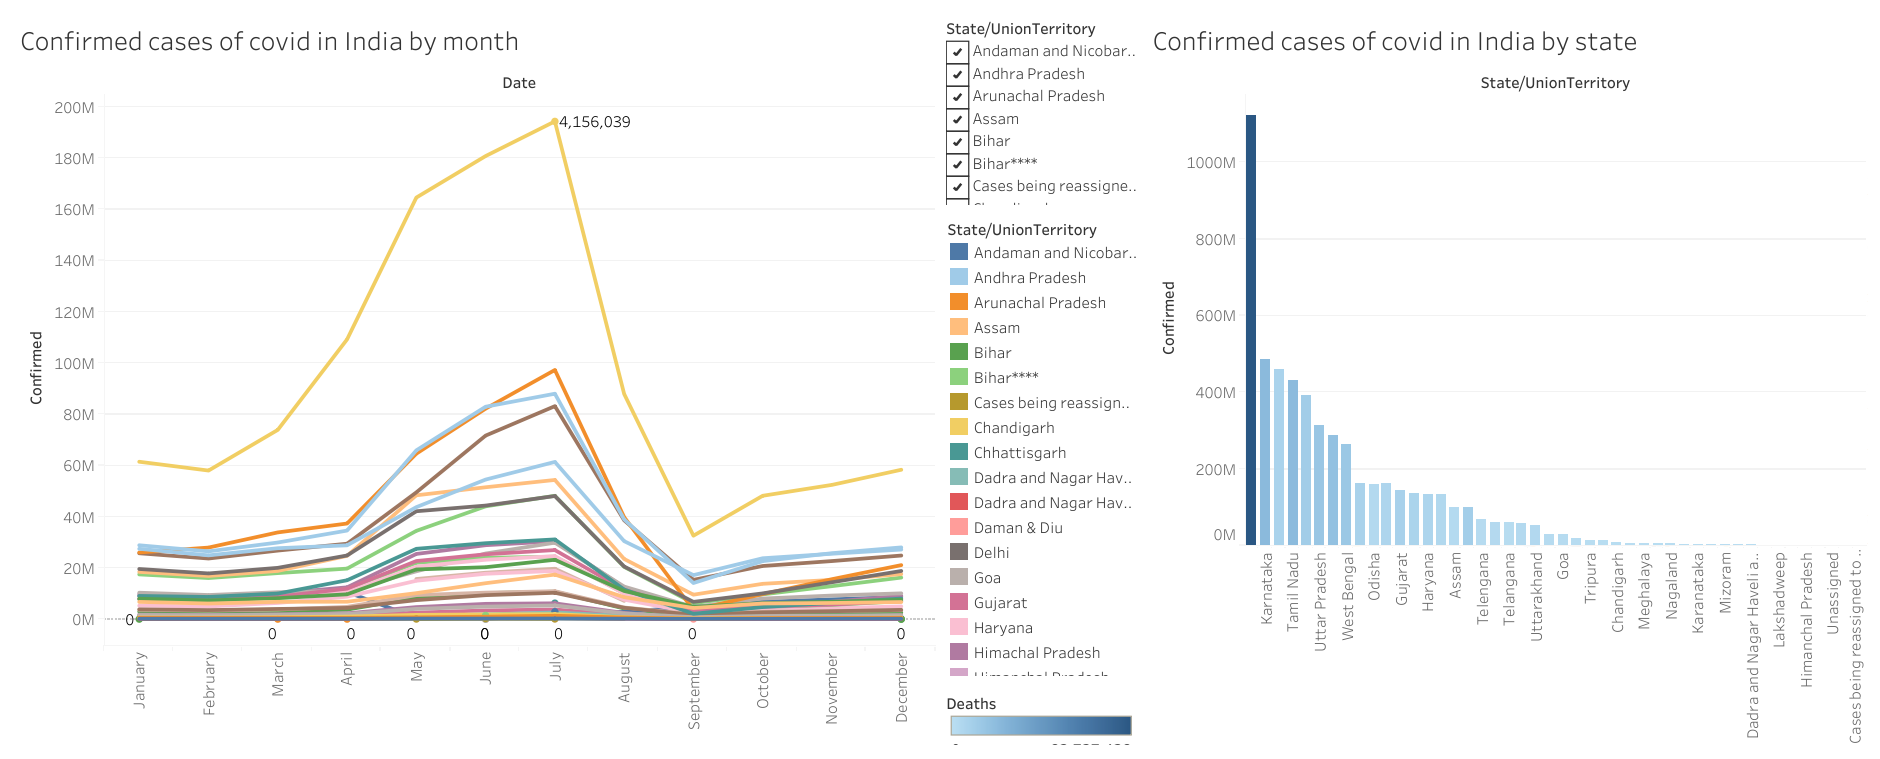

The page's visual inventory and layout, read from the dashboard file:
{"tool":"tableau","page":{"name":"Dashboard 1","canvas":[1000,1000],"units":"permille","ordinal":0},"visuals":[{"type":"worksheet","title":"Sheet 1","mark":"Automatic","rows":["Confirmed"],"cols":["Date"],"box":[4.8,9.3,495.2,981.4]},{"type":"filter","title":"Sheet 1","param":"[federated.0s8aa5k1jvx1dp1ccdq410uafyu0].[none:State/UnionTerritory:nk]","box":[500,9.3,107.3,264.8]},{"type":"worksheet","title":"Sheet 2","mark":"Bar","rows":["Confirmed"],"cols":["State/UnionTerritory"],"box":[607.3,9.3,387.9,981.4]},{"type":"legend","title":"Sheet 1","param":"[federated.0s8aa5k1jvx1dp1ccdq410uafyu0].[none:State/UnionTerritory:nk]","box":[500,274.1,107.3,624.9]},{"type":"legend","title":"Sheet 2","param":"[federated.0s8aa5k1jvx1dp1ccdq410uafyu0].[sum:Deaths:qk]","box":[500,899,107.3,91.8]}]}

Visuals, with their boxes on the dashboard's canvas, which has no fixed pixel size, in thousandths of its width and height (x1, y1, x2, y2). These are canvas units, not pixel positions in the 1880x759 screenshot, which may show the page scaled, cropped or inside an application window:
"Sheet 1" worksheet: x1=5 y1=9 x2=500 y2=991
"Sheet 1" filter: x1=500 y1=9 x2=607 y2=274
"Sheet 2" worksheet (Bar marks): x1=607 y1=9 x2=995 y2=991
"Sheet 1" legend: x1=500 y1=274 x2=607 y2=899
"Sheet 2" legend: x1=500 y1=899 x2=607 y2=991
